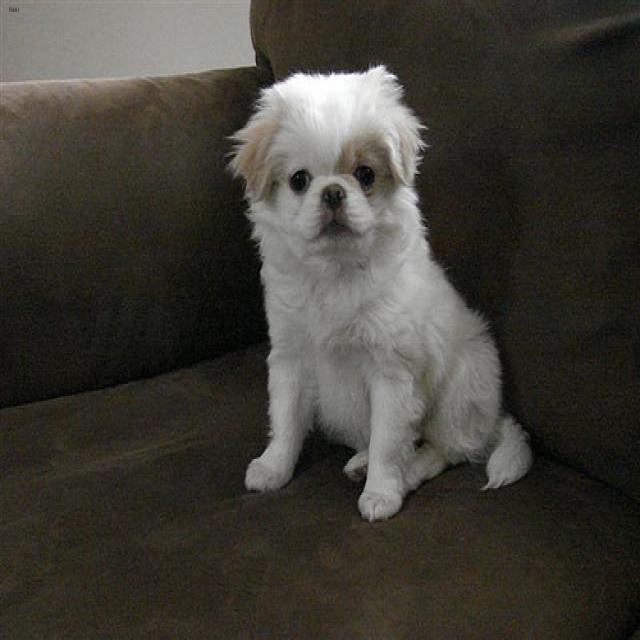dog-japanese_chin: (214, 56, 539, 527)
